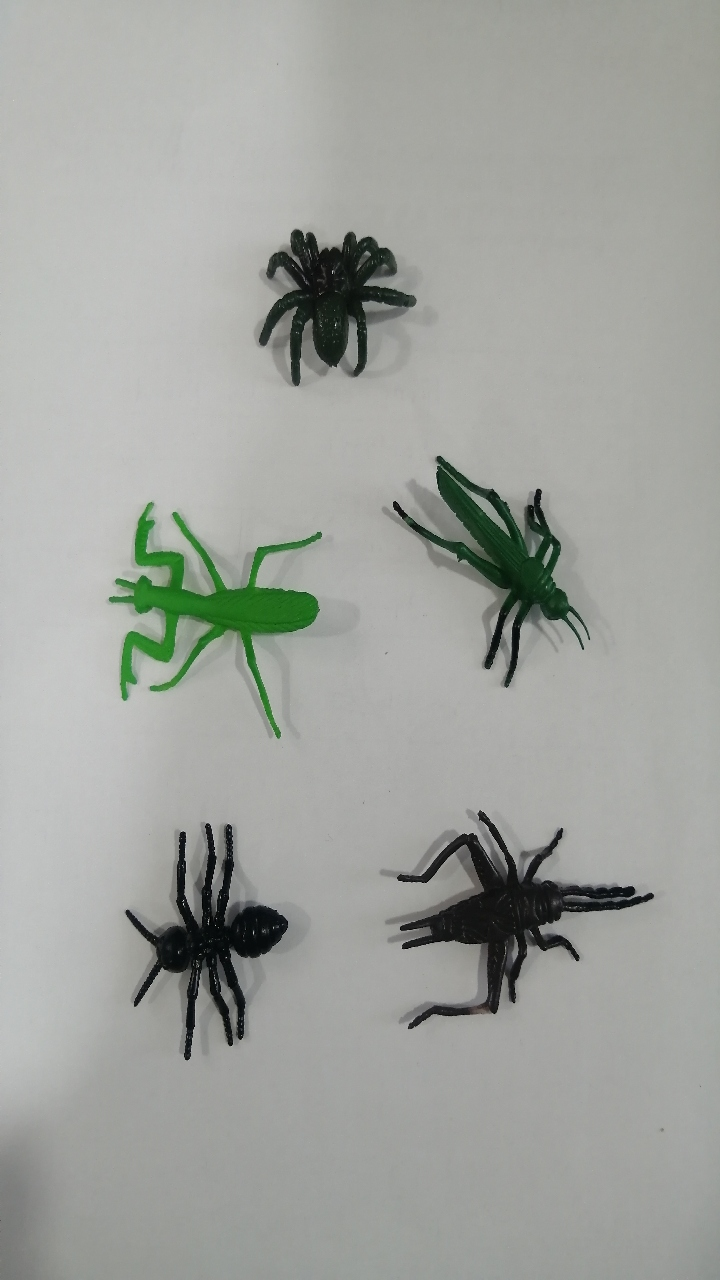intruso: (358, 772, 683, 1072), (84, 471, 340, 765), (371, 431, 624, 720), (80, 791, 315, 1083), (206, 186, 449, 422)
